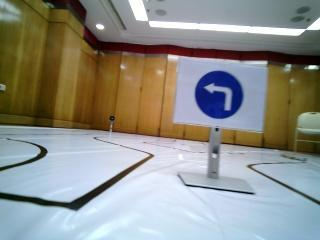left: (183, 66, 256, 122)
